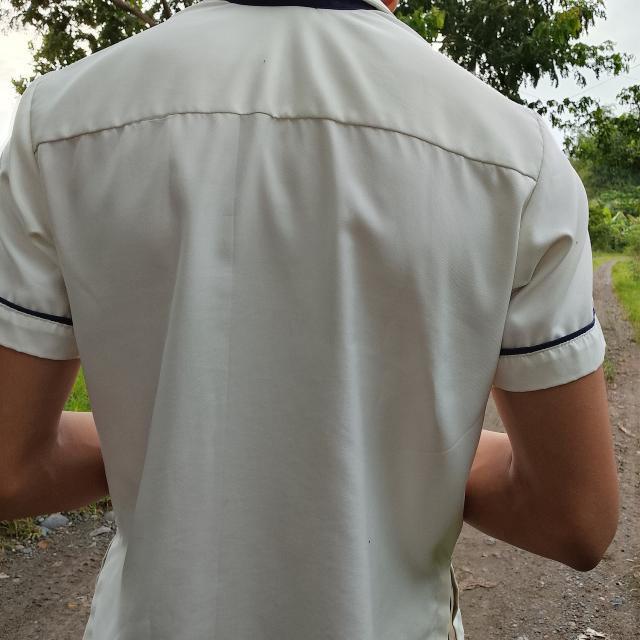education_male_uniform: (0, 0, 635, 438)
